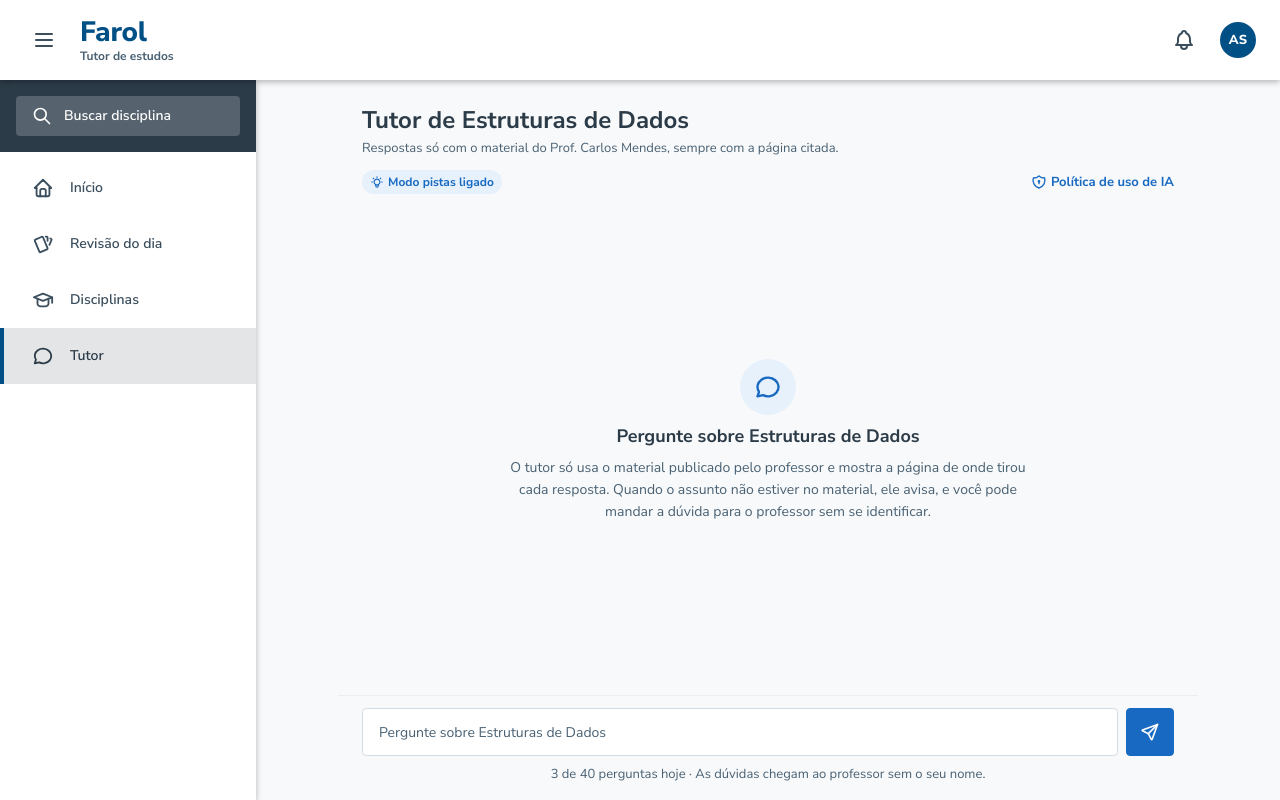
Test: tela do tutor (TUT-T24) › no limite do dia, mostra o aviso da API e devolve a pergunta ao campo
Type "E uma fila?" into the field named "Sua pergunta" at (740, 732), box [362,708,1118,756]
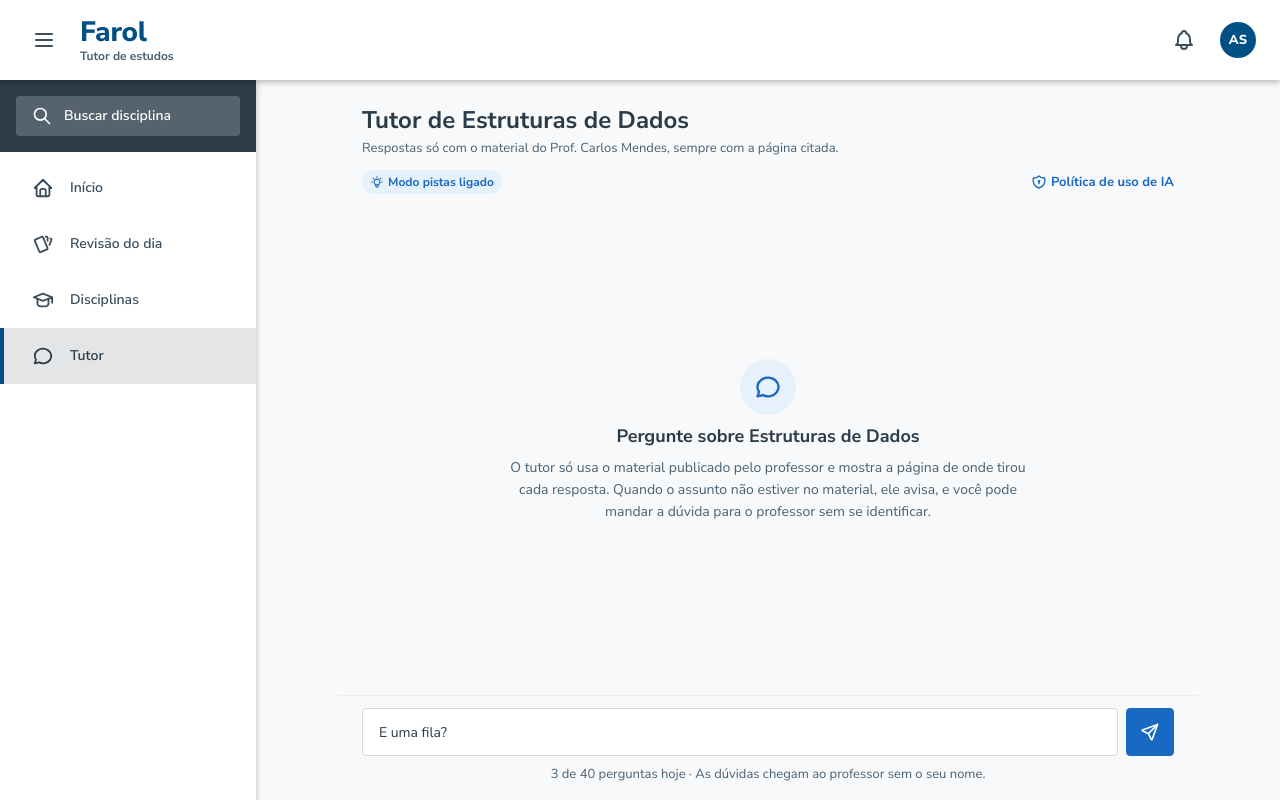
Click the button named "Enviar pergunta" at (1150, 732), box [1126,708,1174,756]
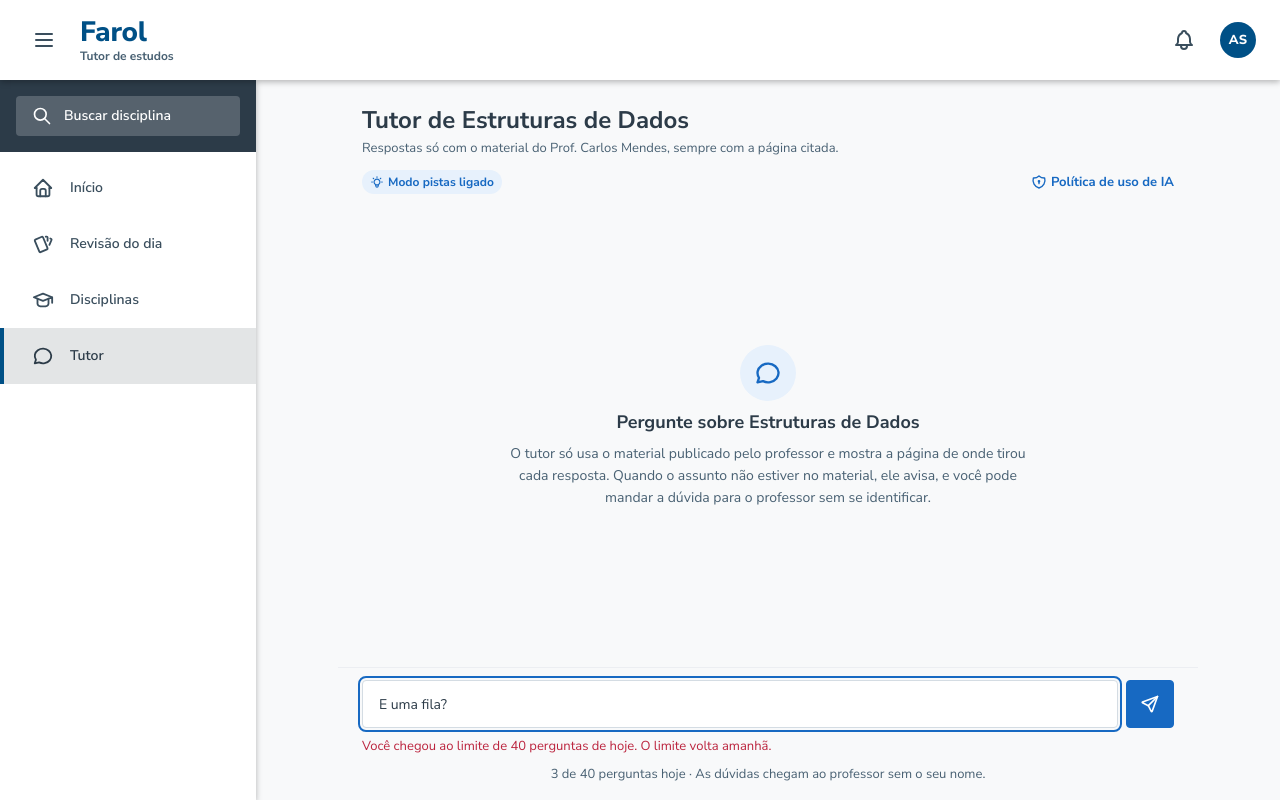
Result: the message reads "Você chegou ao limite de 40 perguntas de hoje. O limite volta amanhã." at [362,737,771,755]
